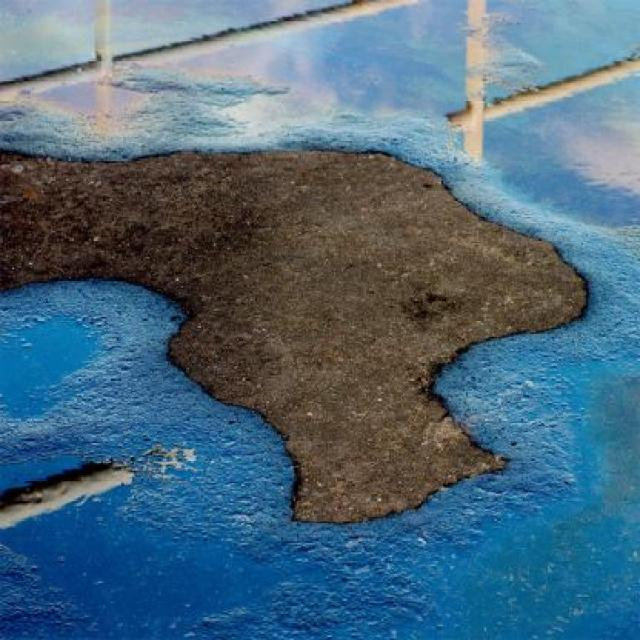spillage: (486, 3, 640, 96)
